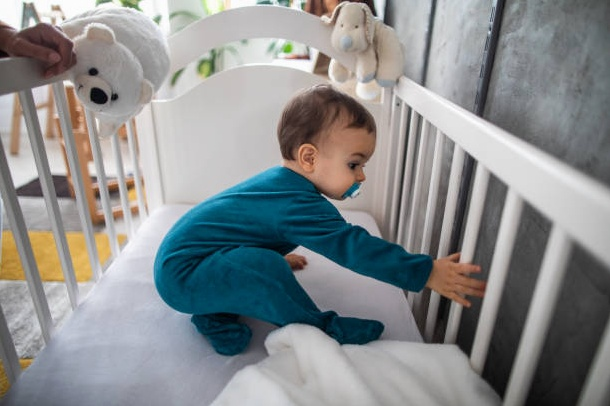baby: (154, 85, 484, 354)
crib: (0, 59, 326, 404)
